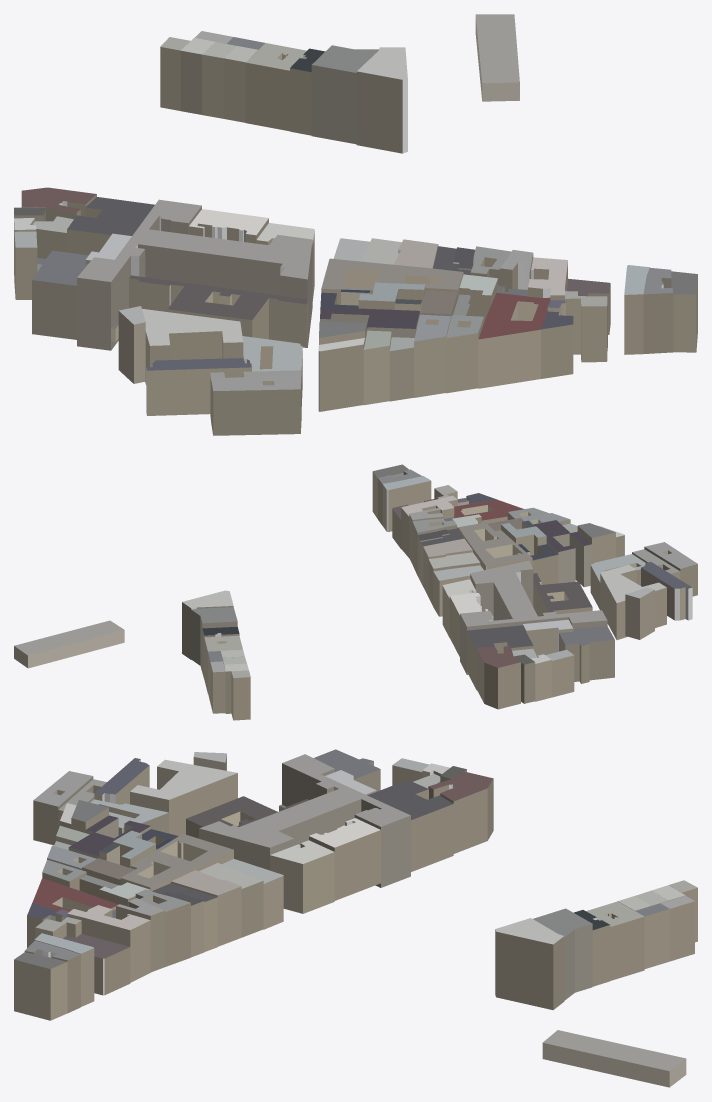
The picture shows the model from 3 angles, top to bottom: view 1: azimuth 30°, elevation 25°; view 2: azimuth 150°, elevation 25°; view 3: azimuth 270°, elevation 25°; orthographic projection. The views are drawn at different scales.
Visible parts, largest first — view 1: tuile; view 2: tuile; view 3: tuile.
Boxes of the visible parts, x1,y1,x2,y2 form: tuile: [14, 14, 697, 435]; tuile: [14, 464, 697, 720]; tuile: [14, 749, 697, 1087].
Size of the model in its own units: 264 by 31.21 by 262.
